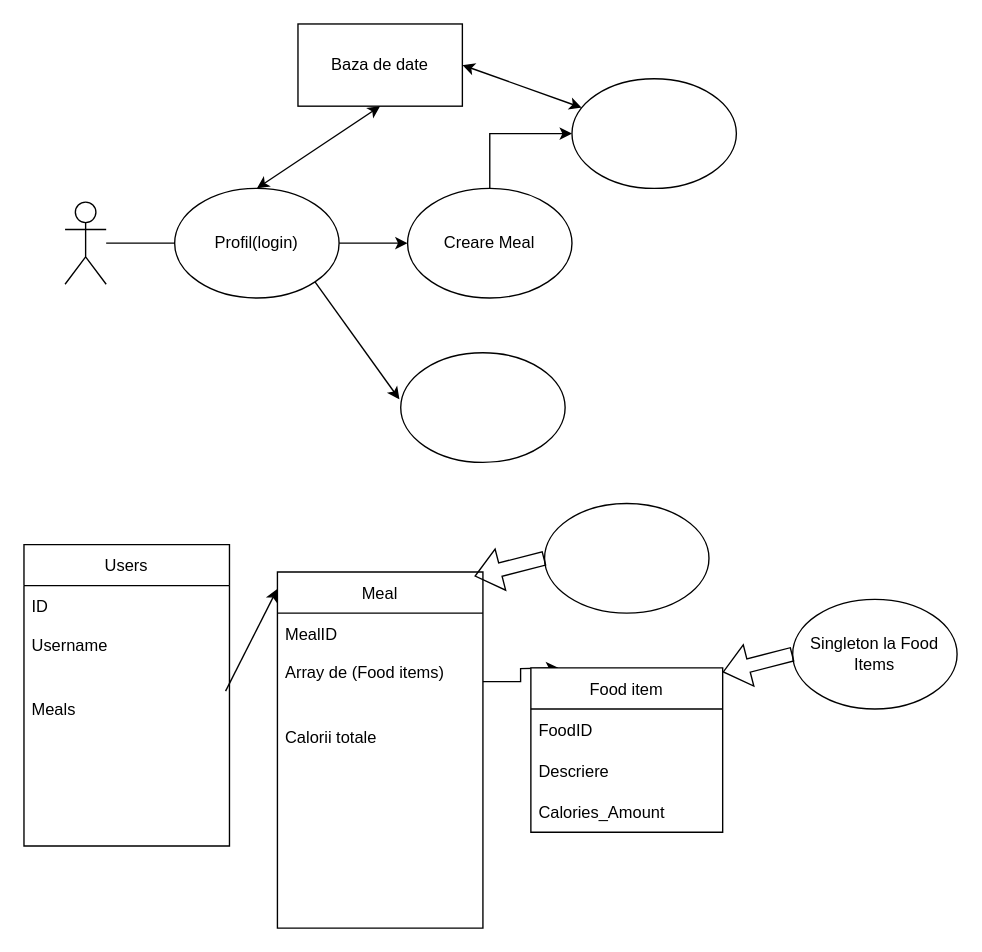
The diagram is 982 pixels wide and 952 high, and some of its shapes have lost their labels. Each missing label, with the centre of its shape:
Actor: the point at 85,242
Adaugare aliment: the point at 653,132
Builder la Meals: the point at 626,557
Istoric alimentatie zile: the point at 482,406
